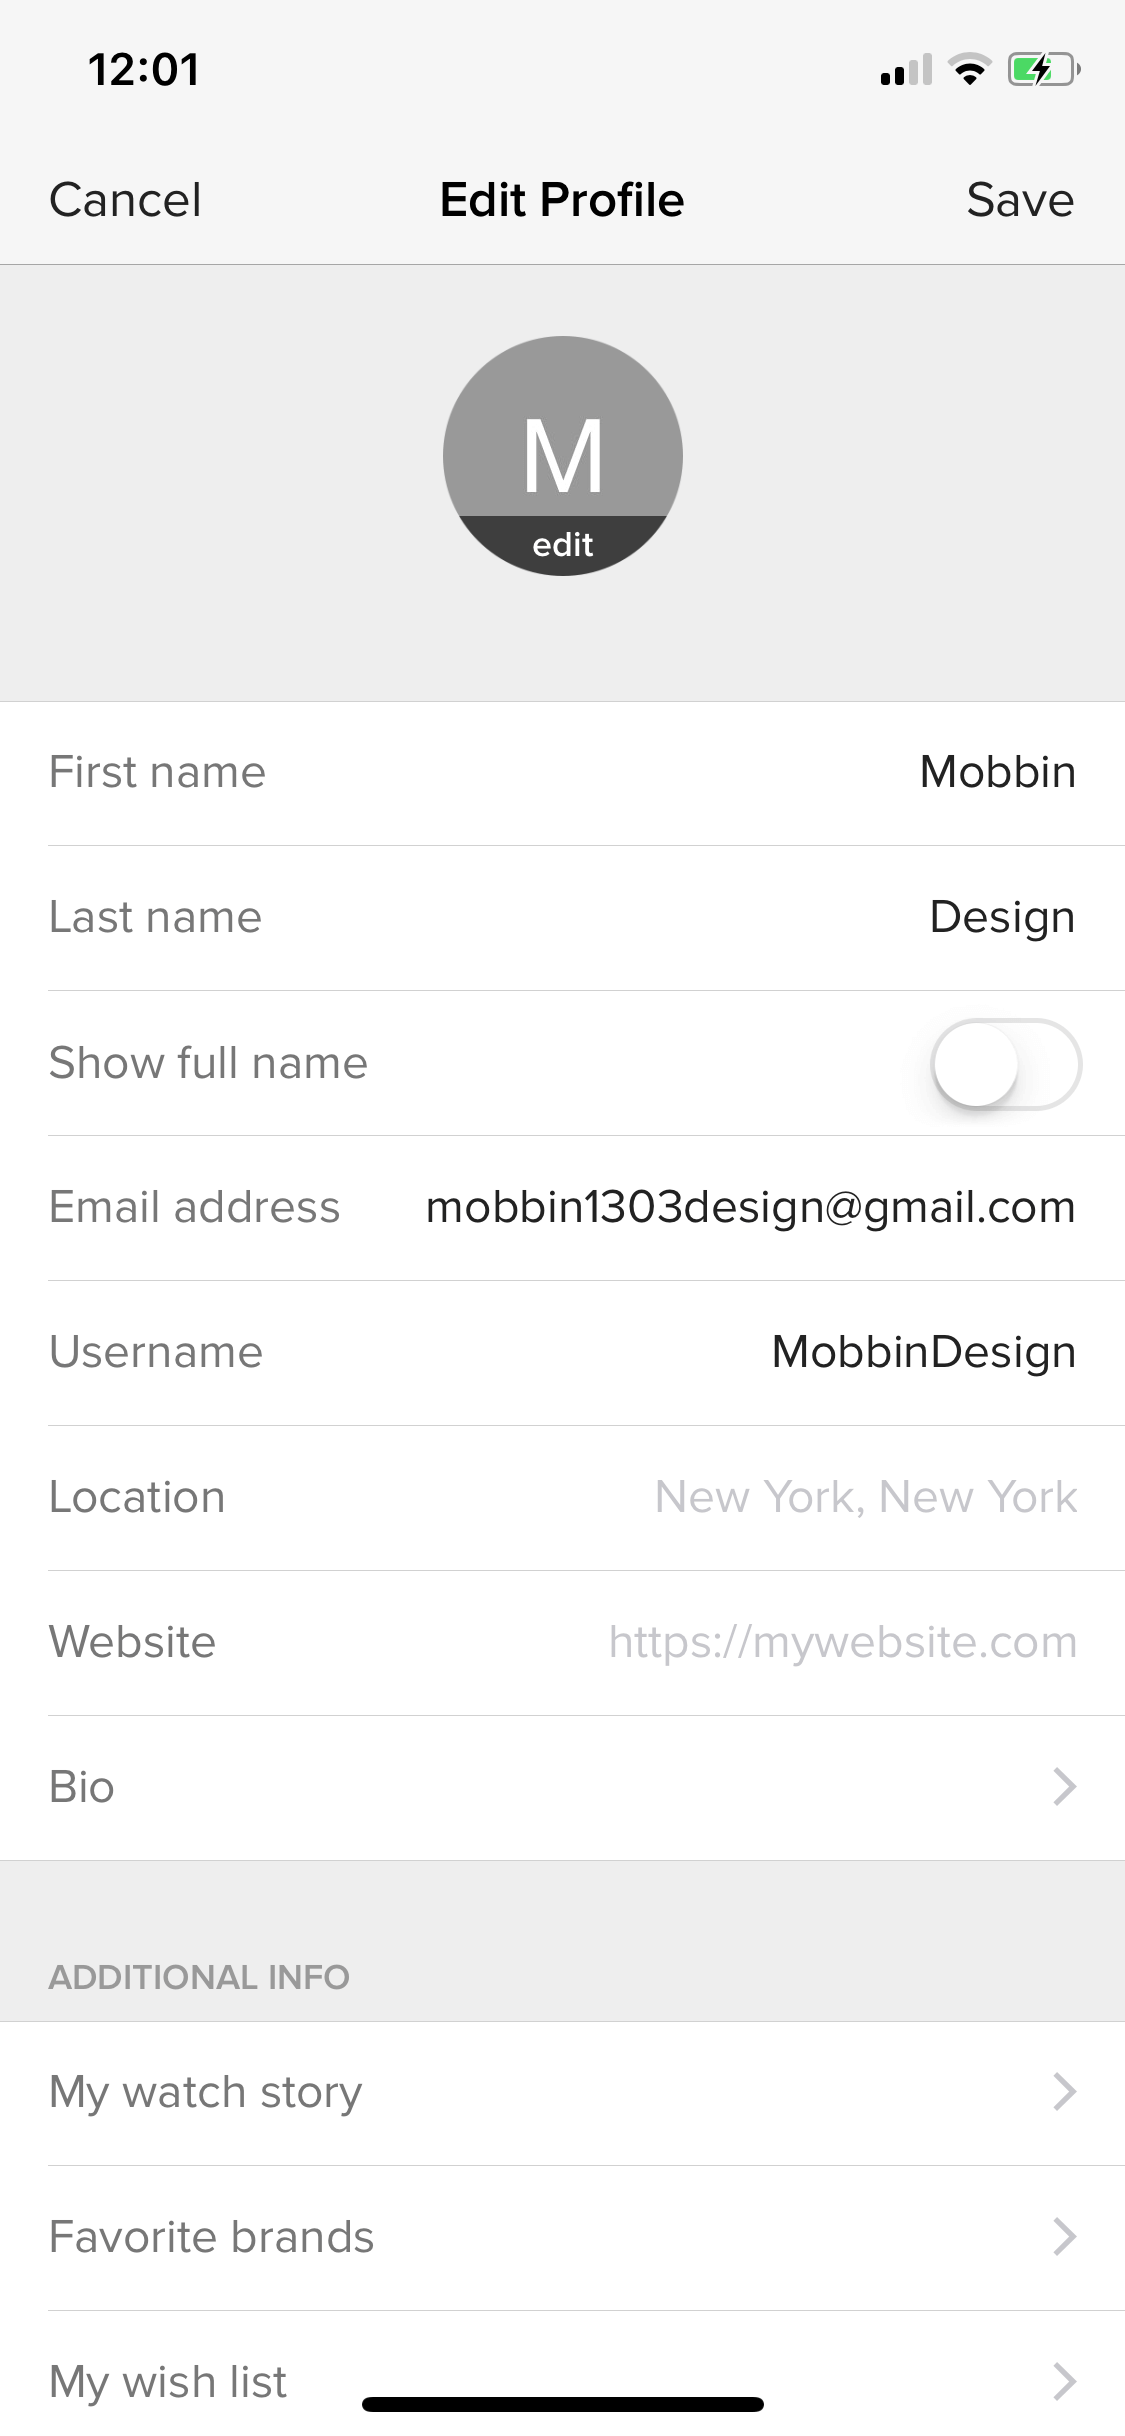Buttons: (23, 132, 235, 249), (937, 127, 1097, 249)
Switches: (918, 1005, 1088, 1123)
